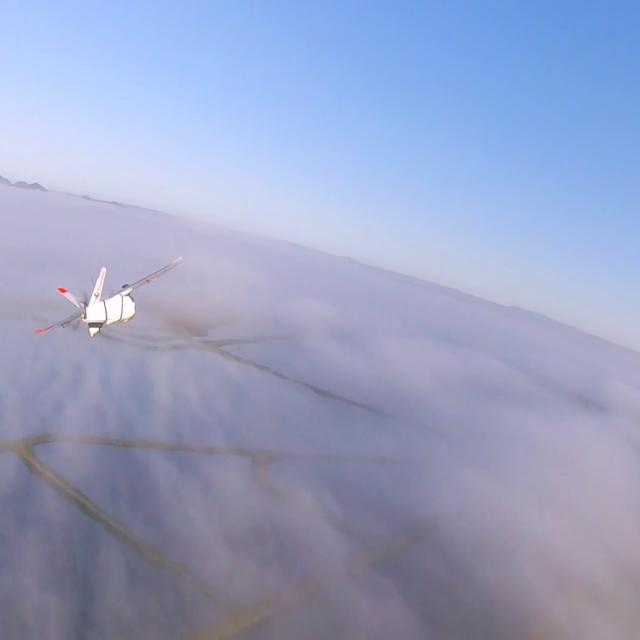iha: (0, 284, 121, 306)
